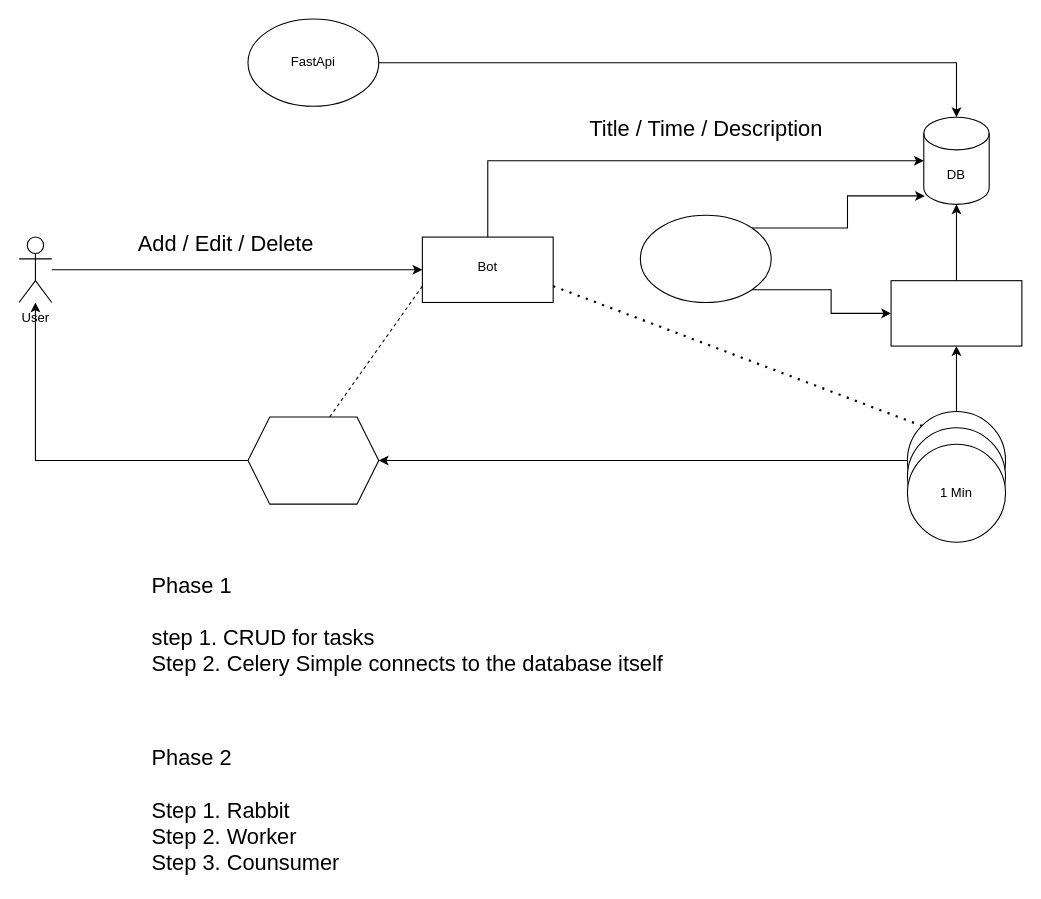
Image size: 1041x899. Some labels were removed from this diagram. Here are the shapes that lost their labels. From the top down, the centre of each, then its label:
(x=705, y=258): Worker
(x=956, y=313): RabbitMQ
(x=313, y=460): Telegram
